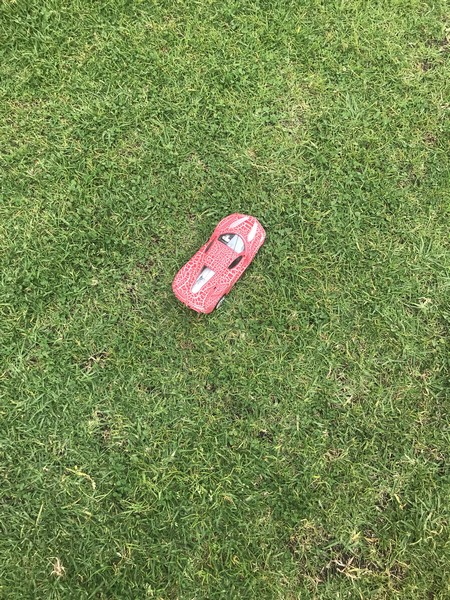RC: (170, 212, 267, 317)
